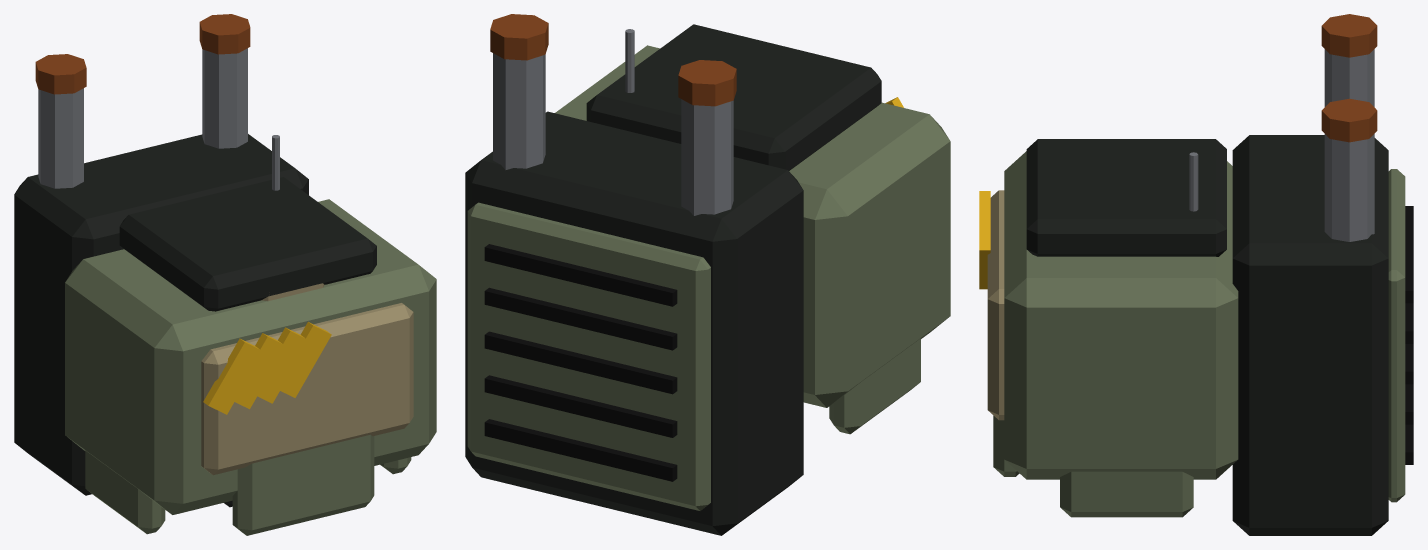
File: PowerArmor.fbx
3 views of the same model, side by side, from view 1: azimuth 30°, elevation 25°; view 2: azimuth 150°, elevation 25°; view 3: azimuth 270°, elevation 25° (orthographic). The views are drawn at different scales.
Visible parts, largest first — view 1: PA_Chest, PA_Pelvis; view 2: PA_Chest, PA_Pelvis, PA_Helmet; view 3: PA_Chest, PA_Pelvis, PA_Helmet.
Part boxes in pixels (x1,y1,x2,y2): PA_Chest: (14,14,436,514); PA_Pelvis: (85,434,411,535); PA_Chest: (465,14,950,535); PA_Pelvis: (829,338,920,434); PA_Helmet: (625,29,634,92); PA_Chest: (979,14,1413,535); PA_Pelvis: (993,415,1193,517); PA_Helmet: (1189,152,1198,211).
Size of the model in its own units: 0.62 by 0.82 by 0.78.
